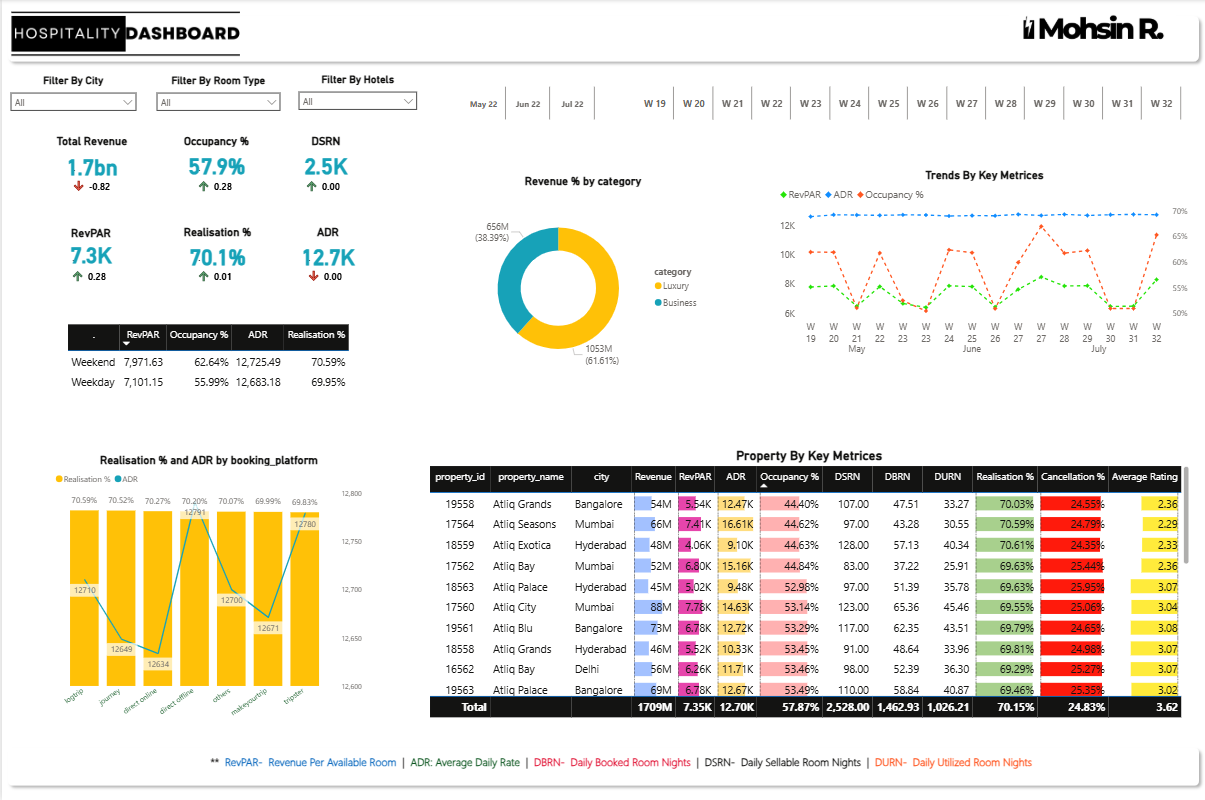

What the dashboard file says about the page in this screenshot:
{"tool":"powerbi","page":{"name":"Page 1","canvas":[1800,1200],"ordinal":0},"visuals":[{"type":"shape","box":[1124.2,207.4,675.8,406.1],"z":0},{"type":"shape","box":[1147,627.3,565.2,537.9],"z":1000},{"type":"shape","box":[656.9,111.8,1130.8,87.7],"z":2000},{"type":"shape","box":[0,73.8,656.9,100],"z":3000},{"type":"tableEx","fields":{"Values":["dim_dates.day type","key_measures.RevPAR","key_measures.Occupancy %","key_measures.ADR","key_measures.Realisation %"]},"box":[92.3,481.5,436.9,118.5],"z":4000},{"type":"slicer","title":"Filter By Month","fields":{"Values":["dim_dates.mmm yy"]},"box":[663.1,124.1,247.7,63.1],"z":5000},{"type":"slicer","title":"Filter By Week Number","fields":{"Values":["dim_dates.week no"]},"box":[923.1,124.1,864.6,63.1],"z":6000},{"type":"slicer","title":"Filter By City","fields":{"Values":["dim_hotels.city"]},"box":[3.1,111.9,207.7,63.1],"z":7000},{"type":"slicer","title":"Filter By Room Type","fields":{"Values":["dim_rooms.room_class"]},"box":[221.5,111.9,204.6,63.1],"z":8000},{"type":"tableEx","fields":{"Values":["key_measures.ADR WoW change %"]},"box":[447.8,373,78.6,58.9],"z":9000},{"type":"card","title":"ADR","fields":{"Values":["key_measures.ADR"]},"box":[428.9,338.2,116.4,74.1],"z":10000},{"type":"tableEx","fields":{"Values":["key_measures.Realisation WoW change %"]},"box":[283.1,373,77.1,58.9],"z":11000},{"type":"card","title":"Realisation %","fields":{"Values":["key_measures.Realisation %"]},"box":[250.6,338.2,142.1,74.1],"z":12000},{"type":"tableEx","fields":{"Values":["key_measures.Revpar WoW change %"]},"box":[94.1,373.1,77.1,58.9],"z":13000},{"type":"card","title":"RevPAR","fields":{"Values":["key_measures.RevPAR"]},"box":[73,339.8,119.4,63.5],"z":14000},{"type":"tableEx","fields":{"Values":["key_measures.DSRN WoW change %"]},"box":[444.8,237.7,78.6,58.9],"z":15000},{"type":"card","title":"DSRN","fields":{"Values":["key_measures.DSRN"]},"box":[425.9,201.3,116.4,74.1],"z":16000},{"type":"tableEx","fields":{"Values":["key_measures.Occupancy WoW change %"]},"box":[282.2,237.7,78.6,58.9],"z":17000},{"type":"card","title":"Occupancy %","fields":{"Values":["key_measures.Occupancy %"]},"box":[250.5,201.3,142.1,74.1],"z":18000},{"type":"tableEx","fields":{"Values":["key_measures.Revenue WoW change %"]},"box":[95.7,238.1,77.1,58.9],"z":19000},{"type":"card","title":"Total Revenue","fields":{"Values":["key_measures.Revenue"]},"box":[74.4,201.5,119.7,74.4],"z":20000},{"type":"shape","box":[624.2,215.7,489.4,406.1],"z":21000},{"type":"donutChart","title":"Revenue % by category","fields":{"Category":["dim_hotels.category"],"Y":["key_measures.Revenue"]},"box":[683.3,261.1,371.2,322.7],"z":22000},{"type":"lineChart","title":"Trends By Key Metrices","fields":{"Category":["dim_dates.mmm yy.Variation.Date Hierarchy.Month","dim_dates.week no"],"Y":["key_measures.RevPAR","key_measures.ADR"],"Y2":["key_measures.Occupancy %"]},"box":[1157.6,253,624.2,292.4],"z":23000},{"type":"shape","box":[31.9,636.1,540.9,477.3],"z":24000},{"type":"lineStackedColumnComboChart","fields":{"Category":["fact_bookings.booking_platform"],"Y":["key_measures.Realisation %"],"Y2":["key_measures.ADR"]},"box":[74.3,680,469.7,407.6],"z":25000},{"type":"shape","box":[630.3,627.8,1159.1,477.3],"z":26000},{"type":"tableEx","title":"Property By Key Metrices","fields":{"Values":["dim_hotels.property_id","dim_hotels.property_name","dim_hotels.city","key_measures.Revenue","key_measures.RevPAR","key_measures.ADR","key_measures.Occupancy %","key_measures.DSRN","key_measures.DBRN","key_measures.DURN","key_measures.Realisation %","key_measures.Cancellation %"]},"box":[634.8,671.2,1147,407.6],"z":27000},{"type":"shape","box":[0,16.9,1800,86.2],"z":28000},{"type":"shape","box":[0,1112.1,1800,74.2],"z":29000},{"type":"image","box":[1481.8,16.7,300,53],"z":30000},{"type":"textbox","box":[158.5,1124.6,1452.3,47.7],"z":31000},{"type":"slicer","title":"Filter By Hotels","fields":{"Values":["dim_hotels.property_name"]},"box":[433.8,110.3,196.9,63.1],"z":32000},{"type":"image","box":[6.2,13.8,358.5,76.9],"z":33000}]}

Visuals, with their boxes in screenshot pixels (x1, y1, x2, y2), scaled from the page's 1800x1200 canvas onto the 1205x800 screenshot:
shape: BBox(753, 138, 1204, 409)
shape: BBox(768, 418, 1146, 777)
shape: BBox(440, 75, 1197, 133)
shape: BBox(0, 49, 440, 116)
tableEx - dim_dates.day type x key_measures.RevPAR: BBox(62, 321, 354, 400)
"Filter By Month" slicer: BBox(444, 83, 610, 125)
"Filter By Week Number" slicer: BBox(618, 83, 1197, 125)
"Filter By City" slicer: BBox(2, 75, 141, 117)
"Filter By Room Type" slicer: BBox(148, 75, 285, 117)
tableEx - key_measures.ADR WoW change %: BBox(300, 249, 352, 288)
"ADR" card: BBox(287, 225, 365, 275)
tableEx - key_measures.Realisation WoW change %: BBox(190, 249, 241, 288)
"Realisation %" card: BBox(168, 225, 263, 275)
tableEx - key_measures.Revpar WoW change %: BBox(63, 249, 115, 288)
"RevPAR" card: BBox(49, 227, 129, 269)
tableEx - key_measures.DSRN WoW change %: BBox(298, 158, 350, 198)
"DSRN" card: BBox(285, 134, 363, 184)
tableEx - key_measures.Occupancy WoW change %: BBox(189, 158, 242, 198)
"Occupancy %" card: BBox(168, 134, 263, 184)
tableEx - key_measures.Revenue WoW change %: BBox(64, 159, 116, 198)
"Total Revenue" card: BBox(50, 134, 130, 184)
shape: BBox(418, 144, 745, 415)
"Revenue % by category" donutChart: BBox(457, 174, 706, 389)
"Trends By Key Metrices" lineChart: BBox(775, 169, 1193, 364)
shape: BBox(21, 424, 383, 742)
lineStackedColumnComboChart - fact_bookings.booking_platform x key_measures.Realisation %: BBox(50, 453, 364, 725)
shape: BBox(422, 419, 1198, 737)
"Property By Key Metrices" tableEx: BBox(425, 447, 1193, 719)
shape: BBox(0, 11, 1204, 69)
shape: BBox(0, 741, 1204, 791)
image: BBox(992, 11, 1193, 46)
textbox: BBox(106, 750, 1078, 782)
"Filter By Hotels" slicer: BBox(290, 74, 422, 116)
image: BBox(4, 9, 244, 60)
